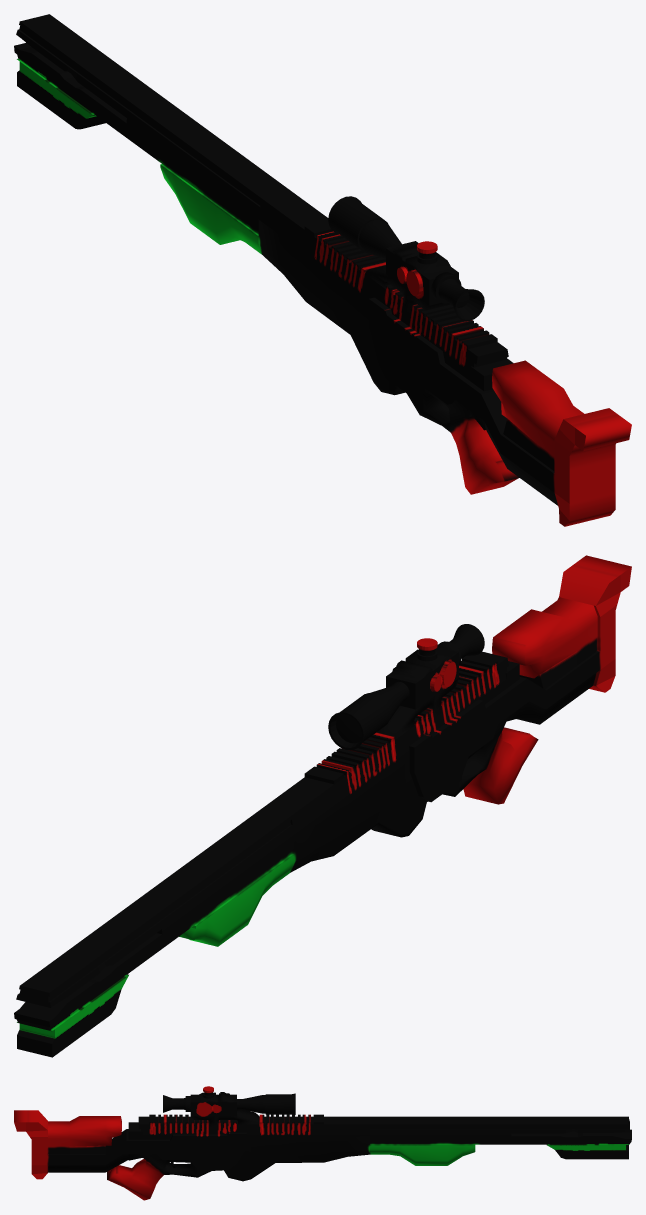
Rendered from sniper.fbx.
3 renders of one model, top to bottom at view 1: azimuth 30°, elevation 25°; view 2: azimuth 150°, elevation 25°; view 3: azimuth 270°, elevation 25°, orthographic. The views are drawn at different scales.
Visible parts, largest first — view 1: Cube.002; view 2: Cube.002; view 3: Cube.002.
Boxes of the visible parts, box(x1,y1,x2,y2) form: Cube.002: box(14, 14, 631, 526); Cube.002: box(14, 555, 631, 1057); Cube.002: box(14, 1086, 631, 1200).
Size of the model in its own units: 44.46 by 186 by 969.
